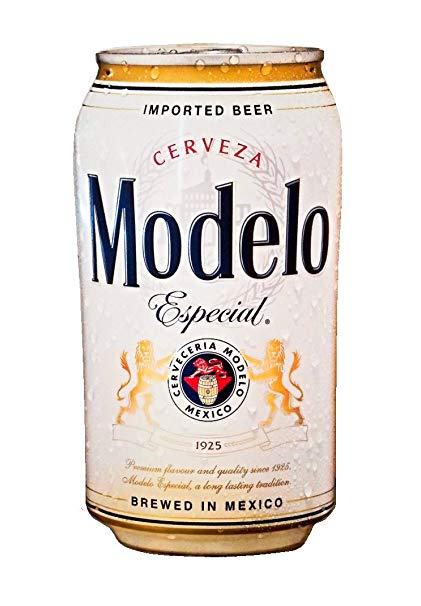beer can: (72, 42, 340, 556)
